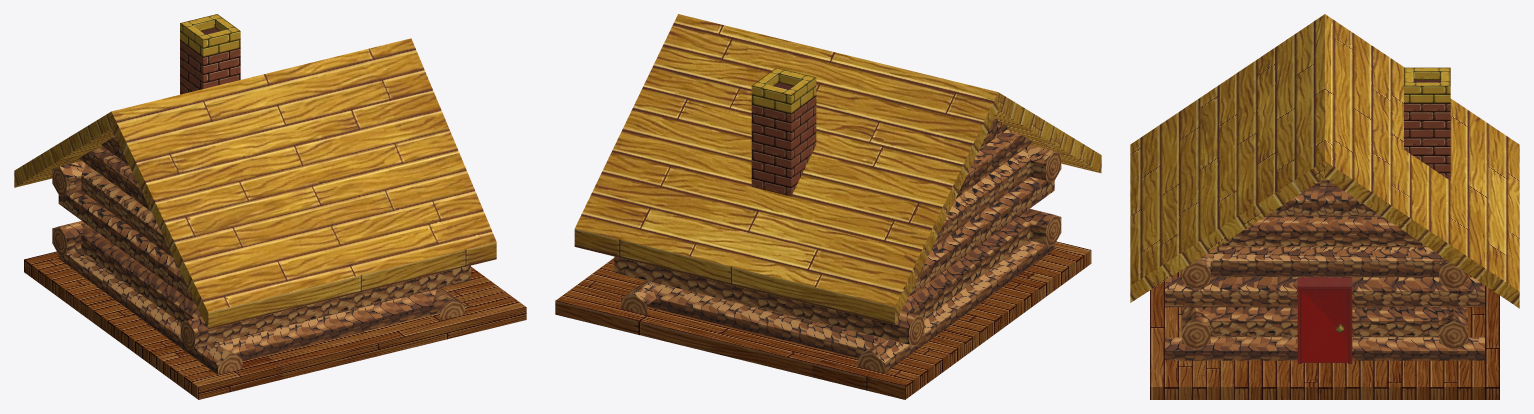
File: plaza_house_yellow.glb
The picture shows the model from 3 angles, left to right: view 1: azimuth 30°, elevation 25°; view 2: azimuth 150°, elevation 25°; view 3: azimuth 270°, elevation 25°; orthographic projection. The views are drawn at different scales.
Visible parts, largest first — view 1: YellowHouse; view 2: YellowHouse; view 3: YellowHouse.
Boxes of the visible parts, x1=… form: YellowHouse: x1=14, y1=14, x2=526, y2=399; YellowHouse: x1=555, y1=14, x2=1101, y2=399; YellowHouse: x1=1130, y1=14, x2=1519, y2=399.
Size of the model in its own units: 13.9 by 9.52 by 14.23.
Materials: 7 (7 with a texture image).
